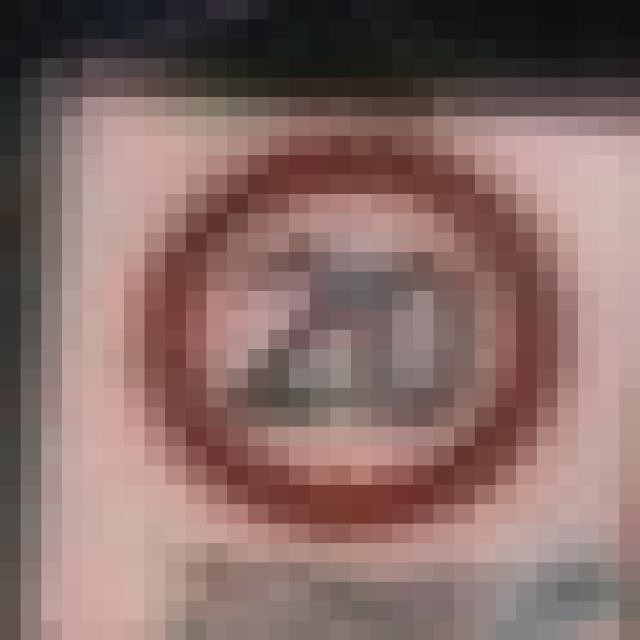Speed Limit -20-: (124, 116, 537, 543)
